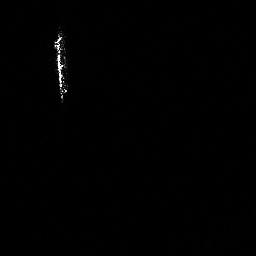ship: (52, 29, 70, 101)
